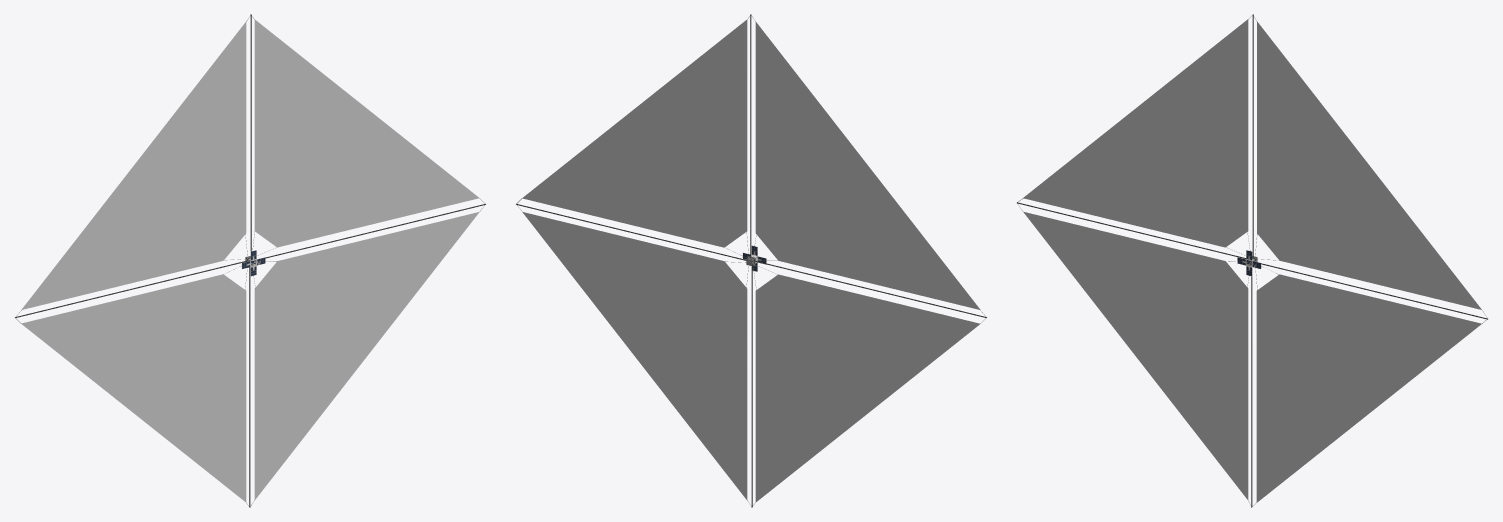
File: acs3.gltf
3 views of the same model, side by side, from view 1: azimuth 30°, elevation 25°; view 2: azimuth 150°, elevation 25°; view 3: azimuth 330°, elevation 25° (orthographic).
Visible parts, largest first — view 1: sails.001, booms; view 2: sails.001, booms; view 3: sails.001, booms.
Boxes of the visible parts, <box> form: sails.001: <box>21,20,479,501</box>; booms: <box>15,14,485,507</box>; sails.001: <box>522,20,980,501</box>; booms: <box>516,14,986,507</box>; sails.001: <box>1023,19,1481,502</box>; booms: <box>1017,14,1487,507</box>.
Bounding box in the file's own units: 14.62 × 14.62 × 0.2876.
Materials: 7 (3 with a texture image).
